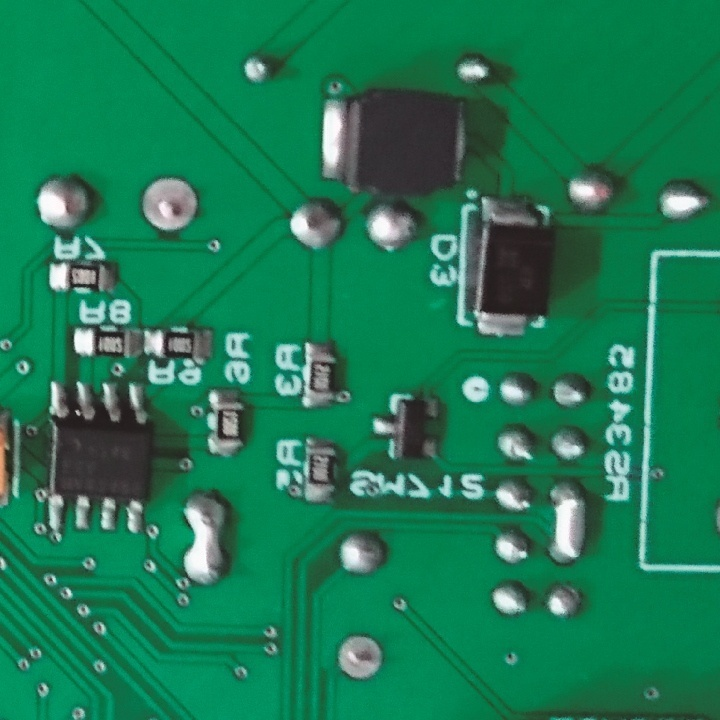F: (138, 171, 202, 236), (339, 630, 384, 686)
P: (181, 489, 229, 591), (546, 478, 590, 566)
